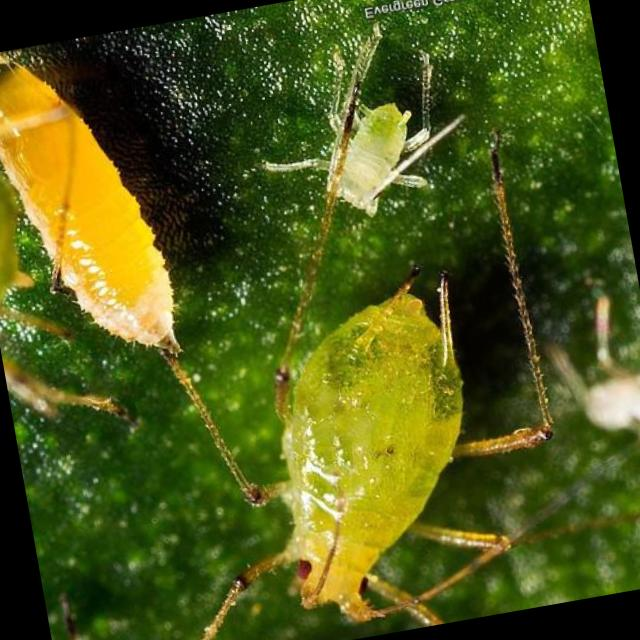Aphids: (163, 224, 599, 640), (280, 20, 484, 254)
